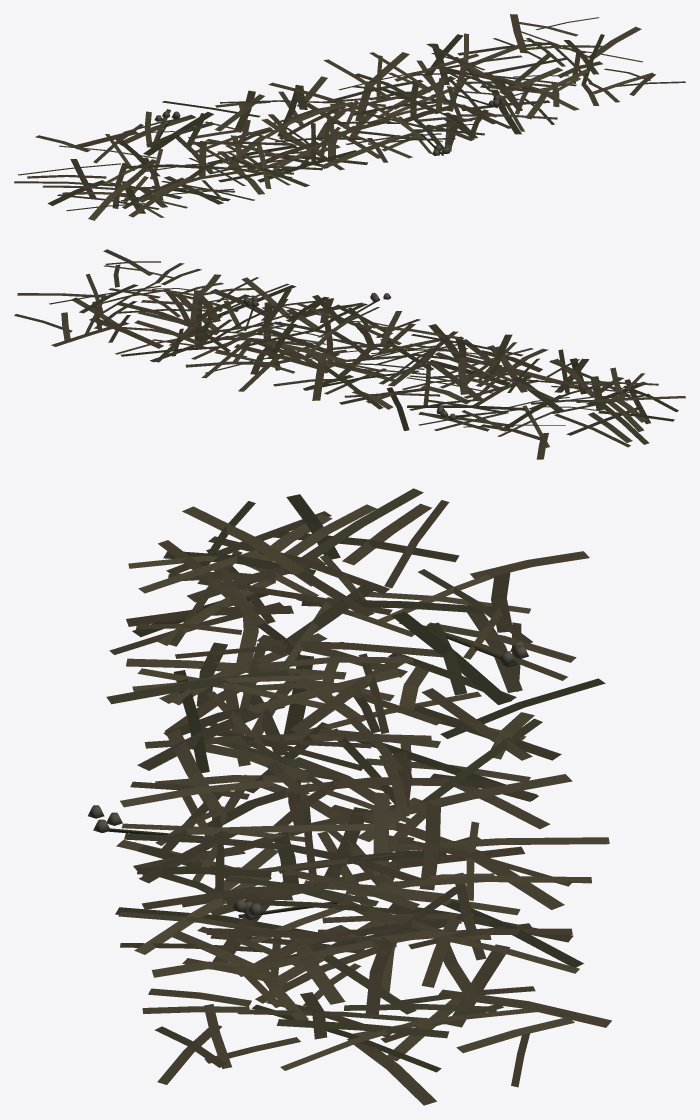
The model's file is prop_inn_rushes_strip.glb.
3 views of the same model, one above another, from view 1: azimuth 30°, elevation 25°; view 2: azimuth 150°, elevation 25°; view 3: azimuth 270°, elevation 25° (orthographic). The views are drawn at different scales.
Visible parts, largest first — view 1: InnRushesStrip, InnRushesStripSoft; view 2: InnRushesStrip, InnRushesStripSoft; view 3: InnRushesStrip, InnRushesStripSoft.
Boxes of the visible parts, x1,y1,x2,y2 form: InnRushesStrip: [14, 14, 685, 220]; InnRushesStripSoft: [153, 93, 500, 155]; InnRushesStrip: [14, 249, 685, 459]; InnRushesStripSoft: [242, 292, 508, 419]; InnRushesStrip: [106, 488, 611, 1105]; InnRushesStripSoft: [88, 626, 528, 920].
Bounding box in the file's own units: 1.96 × 0.0318 × 0.7061.
